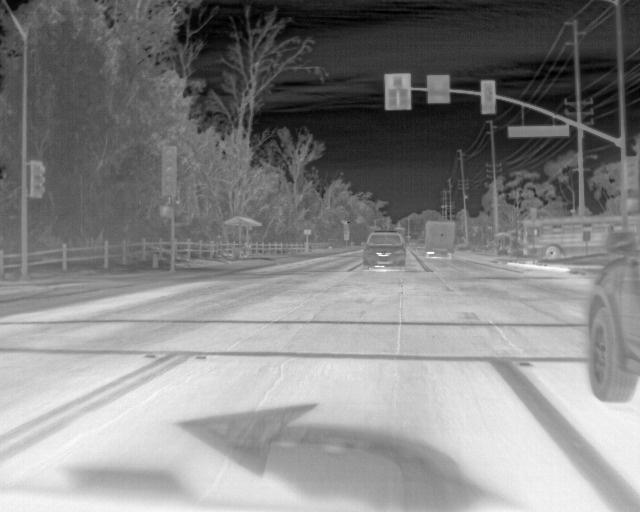car: (585, 256, 639, 404), (361, 229, 407, 269)
